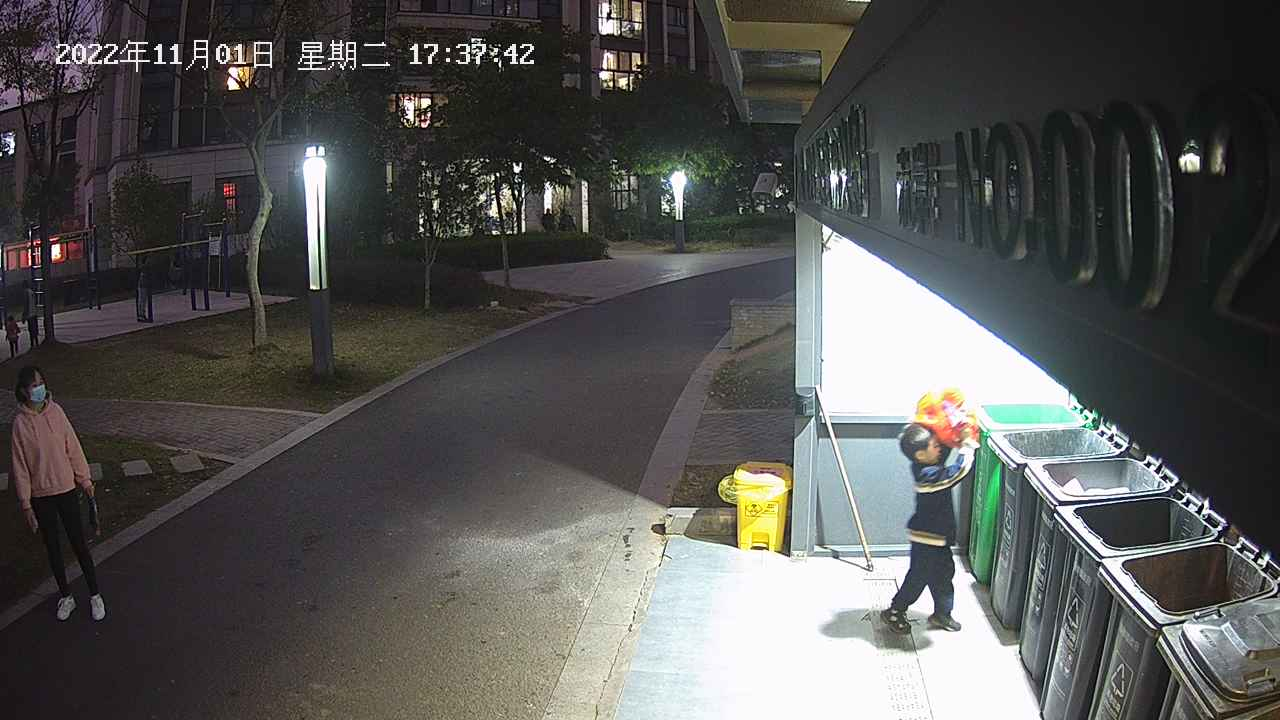garbage-bag: (909, 386, 982, 451)
person: (6, 365, 108, 622), (879, 422, 980, 636)
